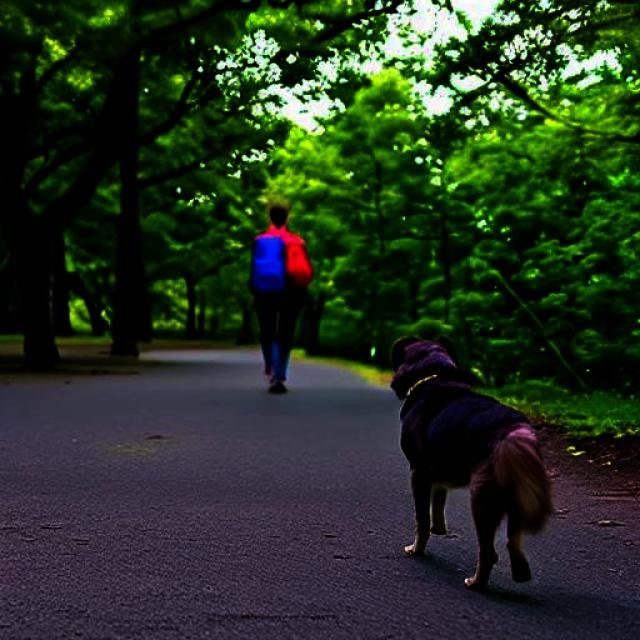Dog: (391, 335, 554, 593)
